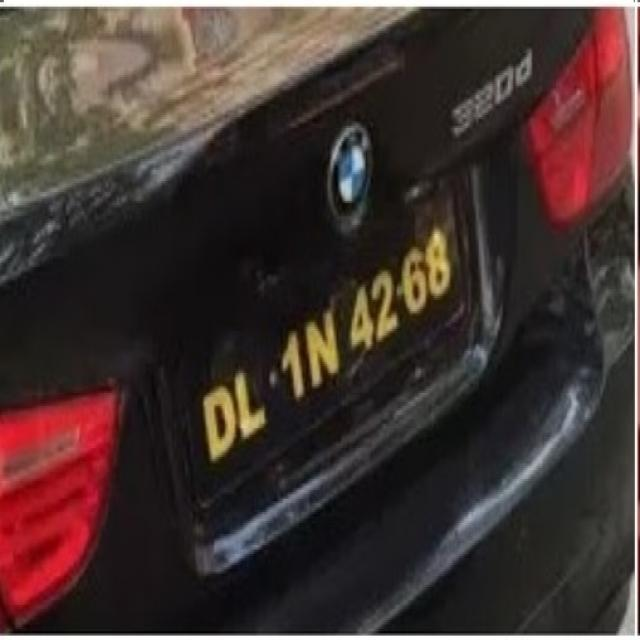license-plate: (180, 179, 463, 505)
